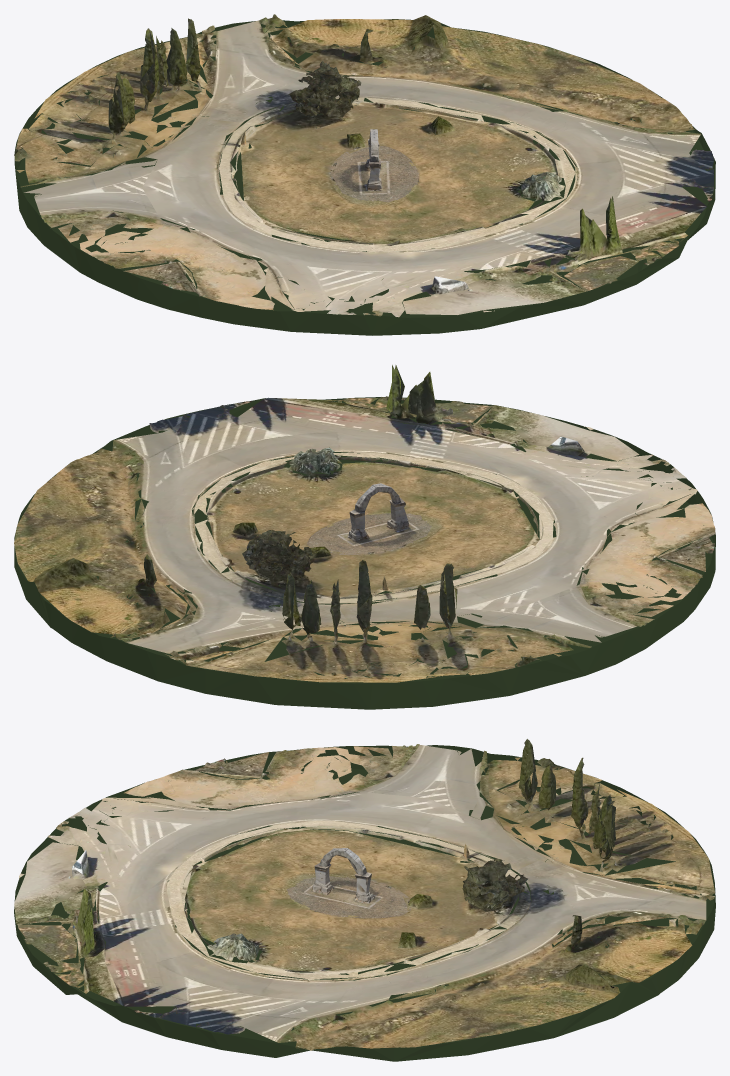
Rendered from roman_arch.glb.
3 views of the same model, one above another, from view 1: azimuth 30°, elevation 25°; view 2: azimuth 150°, elevation 25°; view 3: azimuth 270°, elevation 25° (orthographic).
Parts seen in each view (by area): view 1: Object_10, Object_5, Object_2, Object_3; view 2: Object_10, Object_5, Object_2, Object_3; view 3: Object_10, Object_5, Object_2, Object_3.
Boxes of the visible parts, bbox=[...] form: Object_10: bbox=[16, 15, 714, 314]; Object_5: bbox=[14, 14, 713, 317]; Object_2: bbox=[14, 19, 715, 335]; Object_3: bbox=[330, 129, 420, 202]; Object_10: bbox=[14, 365, 714, 682]; Object_5: bbox=[33, 365, 715, 678]; Object_2: bbox=[14, 397, 715, 709]; Object_3: bbox=[307, 483, 431, 555]; Object_10: bbox=[14, 741, 714, 1050]; Object_5: bbox=[19, 739, 715, 1034]; Object_2: bbox=[14, 745, 715, 1061]; Object_3: bbox=[287, 848, 410, 918].
Size of the model in its own units: 78.81 by 13.22 by 79.71.
4 materials, 3 textured.
